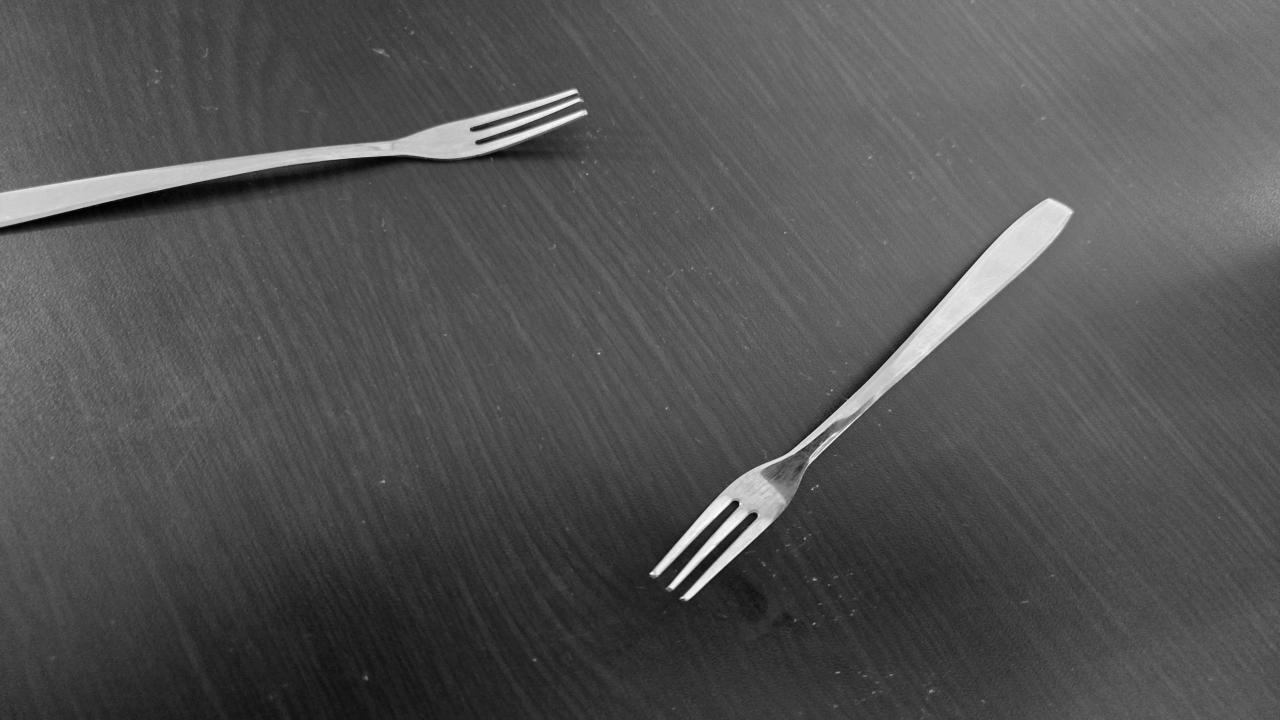fork: (656, 202, 1056, 596), (0, 87, 597, 248)
